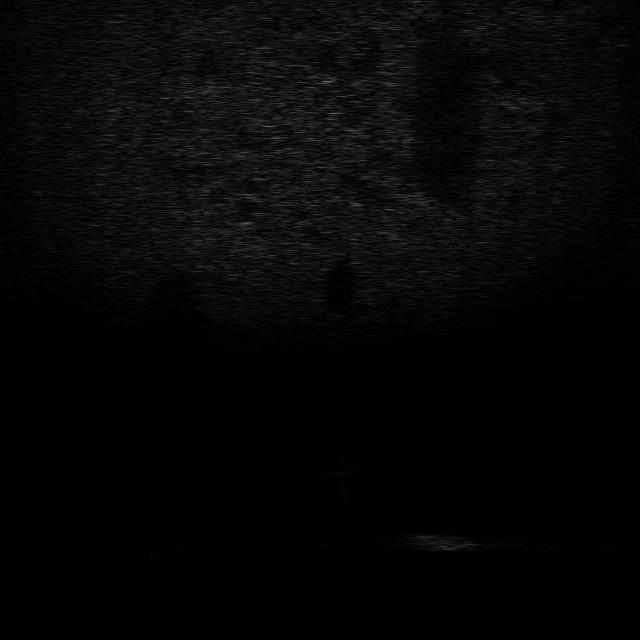ball: (318, 453, 362, 477)
metal bucket: (384, 528, 496, 556)
tyre: (144, 534, 191, 565)
